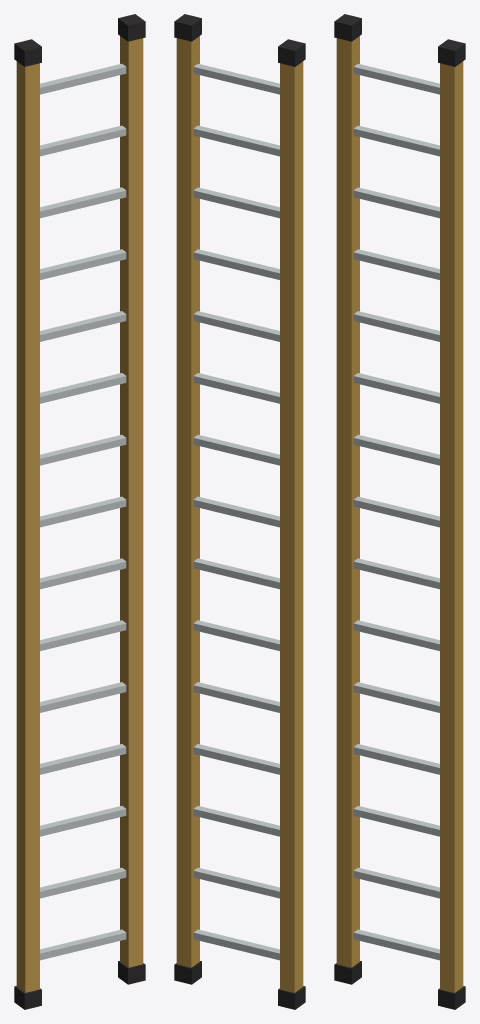
File: ladder.fbx
3 renders of one model, left to right at view 1: azimuth 30°, elevation 25°; view 2: azimuth 150°, elevation 25°; view 3: azimuth 330°, elevation 25°, orthographic.
Visible parts, largest first — view 1: sideLeft, sideRight, pasted__rung4 (×2), pasted__rung3 (×2), pasted__rung5 (×2), pasted__rung2 (×2), pasted__rung1 (×2), rung5, rung3, rung2, rung1, rung4 (+4 smaller); view 2: sideLeft, sideRight, pasted__rung4 (×2), pasted__rung3 (×2), pasted__rung5 (×2), pasted__rung2 (×2), pasted__rung1 (×2), rung5, rung3, rung2, rung1, rung4 (+4 smaller); view 3: sideRight, sideLeft, pasted__rung5 (×2), pasted__rung4 (×2), pasted__rung2 (×2), pasted__rung3 (×2), pasted__rung1 (×2), rung3, rung5, rung2, rung1, rung4 (+4 smaller).
Part boxes in pixels (x1=…): sideLeft: x1=16, y1=61, x2=39, y2=992; sideRight: x1=120, y1=36, x2=143, y2=967; pasted__rung4 (×2): x1=40, y1=125, x2=126, y2=465; pasted__rung3 (×2): x1=40, y1=187, x2=126, y2=527; pasted__rung5 (×2): x1=40, y1=63, x2=126, y2=403; pasted__rung2 (×2): x1=40, y1=249, x2=126, y2=589; pasted__rung1 (×2): x1=40, y1=311, x2=126, y2=650; rung5: x1=40, y1=682, x2=126, y2=712; rung3: x1=40, y1=806, x2=126, y2=836; rung2: x1=40, y1=867, x2=126, y2=898; rung1: x1=40, y1=929, x2=126, y2=960; rung4: x1=40, y1=744, x2=126, y2=774; sideLeft: x1=280, y1=61, x2=303, y2=992; sideRight: x1=176, y1=36, x2=199, y2=967; pasted__rung4 (×2): x1=193, y1=125, x2=279, y2=465; pasted__rung3 (×2): x1=193, y1=187, x2=279, y2=527; pasted__rung5 (×2): x1=193, y1=63, x2=279, y2=403; pasted__rung2 (×2): x1=193, y1=249, x2=279, y2=589; pasted__rung1 (×2): x1=193, y1=311, x2=279, y2=650; rung5: x1=193, y1=682, x2=279, y2=712; rung3: x1=193, y1=806, x2=279, y2=836; rung2: x1=193, y1=867, x2=279, y2=898; rung1: x1=193, y1=929, x2=279, y2=960; rung4: x1=193, y1=744, x2=279, y2=774; sideRight: x1=440, y1=61, x2=463, y2=992; sideLeft: x1=336, y1=36, x2=359, y2=967; pasted__rung5 (×2): x1=353, y1=63, x2=439, y2=403; pasted__rung4 (×2): x1=353, y1=125, x2=439, y2=465; pasted__rung2 (×2): x1=353, y1=249, x2=439, y2=589; pasted__rung3 (×2): x1=353, y1=187, x2=439, y2=527; pasted__rung1 (×2): x1=353, y1=311, x2=439, y2=650; rung3: x1=353, y1=806, x2=439, y2=836; rung5: x1=353, y1=682, x2=439, y2=712; rung2: x1=353, y1=867, x2=439, y2=898; rung1: x1=353, y1=929, x2=439, y2=960; rung4: x1=353, y1=744, x2=439, y2=774.
Bounding box in the file's own units: 2.05 × 15.51 × 0.3017.
